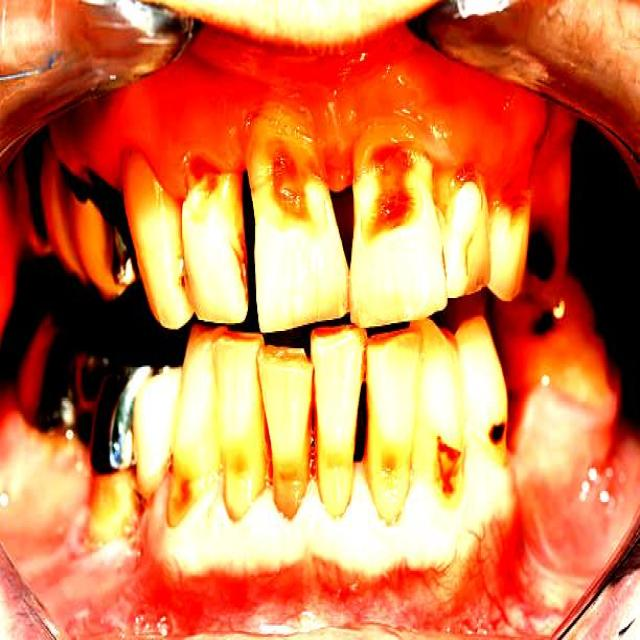caries: (348, 142, 443, 330), (242, 150, 340, 330), (421, 410, 467, 507), (158, 438, 207, 529), (263, 433, 314, 520), (363, 417, 409, 513), (216, 424, 264, 497), (478, 398, 514, 458)
